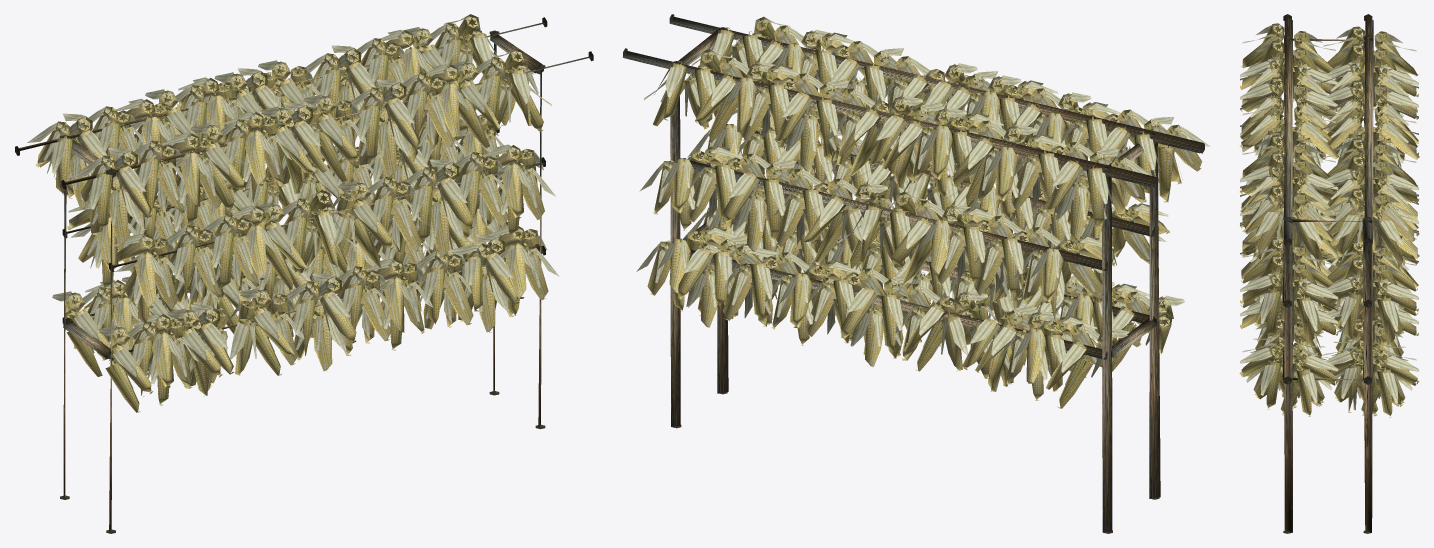
File: drying_rack.glb
The picture shows the model from 3 angles, left to right: view 1: azimuth 30°, elevation 25°; view 2: azimuth 150°, elevation 25°; view 3: azimuth 270°, elevation 25°; orthographic projection. The views are drawn at different scales.
Parts seen in each view (by area): view 1: Cylinder070_18 - Default_0; view 2: Cylinder070_18 - Default_0; view 3: Cylinder070_18 - Default_0.
Boxes of the visible parts, box(x1,y1,x2,y2) form: Cylinder070_18 - Default_0: box(15, 14, 593, 533); Cylinder070_18 - Default_0: box(622, 14, 1209, 533); Cylinder070_18 - Default_0: box(1239, 14, 1419, 533).
Size of the model in its own units: 2.8 by 1.9 by 0.956.
Materials: 3 (3 with a texture image).
